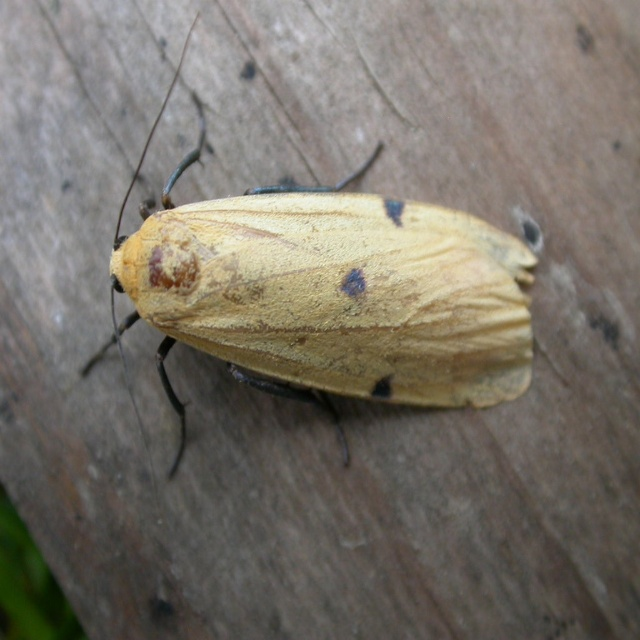Moths and butterflies: (82, 8, 541, 525)
